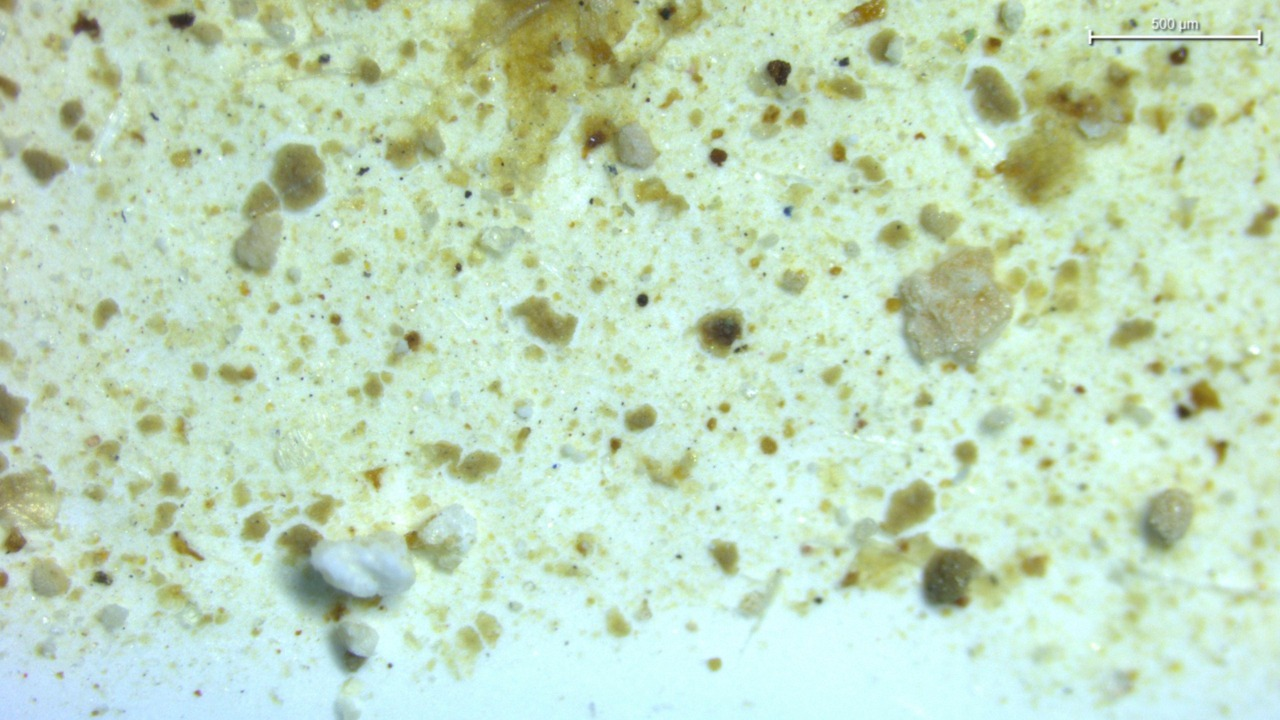microplastic_fragment: (898, 247, 1012, 364), (309, 532, 414, 598), (417, 505, 476, 571), (234, 212, 283, 271), (615, 123, 657, 169), (476, 226, 529, 257), (340, 622, 378, 658)
